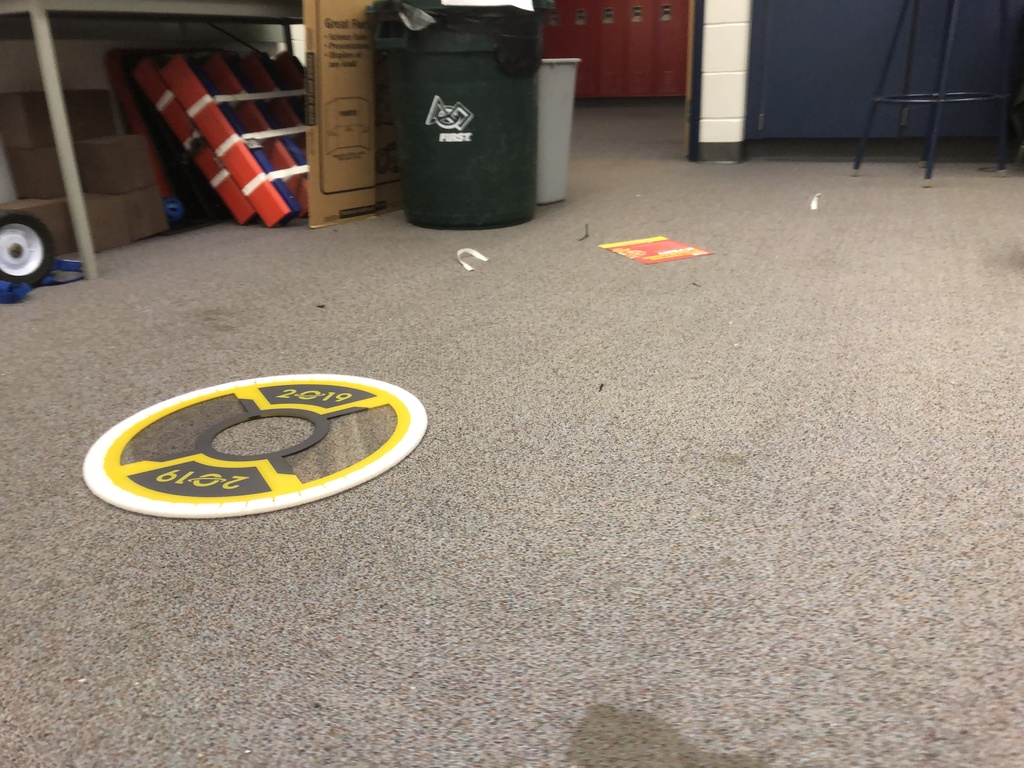hatch_panel: (73, 366, 440, 530)
